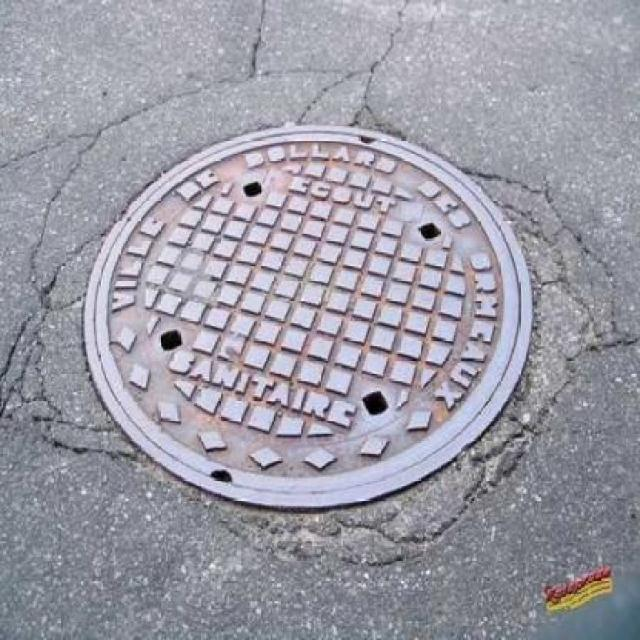Manhole: (75, 112, 548, 514)
